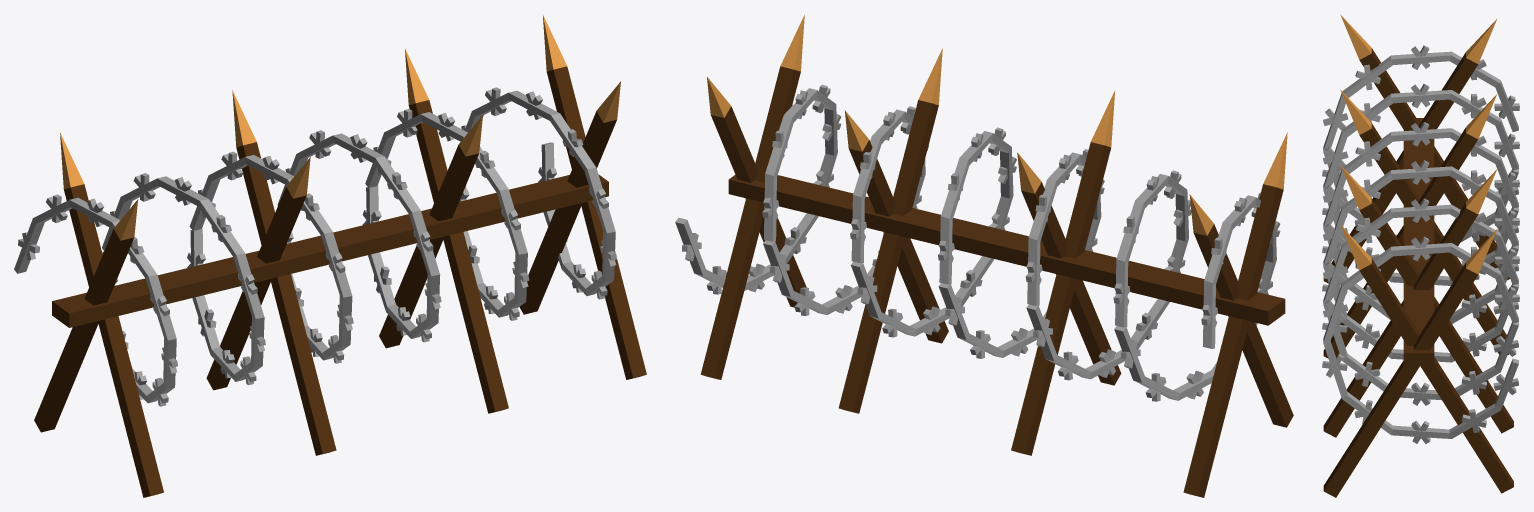
The model's file is Barricade Spikes.fbx.
3 views of the same model, side by side, from view 1: azimuth 30°, elevation 25°; view 2: azimuth 150°, elevation 25°; view 3: azimuth 270°, elevation 25° (orthographic). The views are drawn at different scales.
Parts seen in each view (by area): view 1: Barricade Spikes, Barricade Barbed Wire; view 2: Barricade Spikes, Barricade Barbed Wire; view 3: Barricade Barbed Wire, Barricade Spikes.
Boxes of the visible parts, <box> form: Barricade Spikes: <box>34,14,646,497</box>; Barricade Barbed Wire: <box>14,87,616,406</box>; Barricade Spikes: <box>700,15,1293,497</box>; Barricade Barbed Wire: <box>675,84,1280,401</box>; Barricade Barbed Wire: <box>1322,45,1519,443</box>; Barricade Spikes: <box>1323,14,1513,497</box>.
Bounding box in the file's own units: 1108 × 579 × 390.
